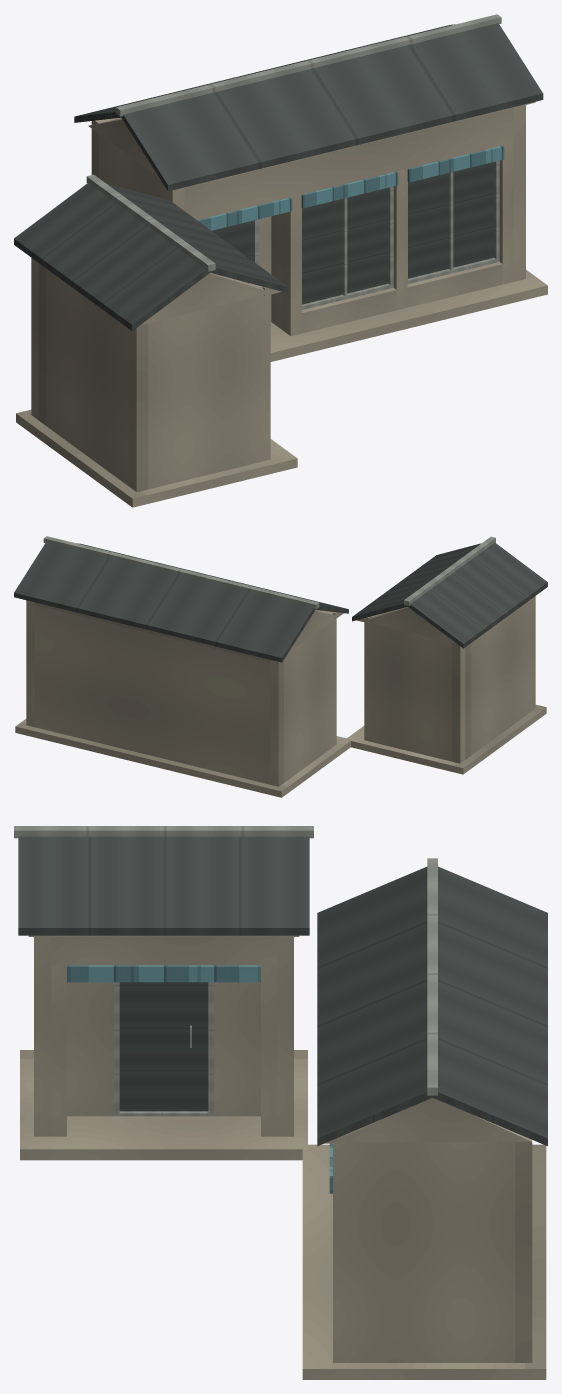
3 views of the same model, one above another, from view 1: azimuth 30°, elevation 25°; view 2: azimuth 150°, elevation 25°; view 3: azimuth 270°, elevation 25° (orthographic). The views are drawn at different scales.
Visible parts, largest first — view 1: mexico-city; view 2: mexico-city; view 3: mexico-city.
Boxes of the visible parts, left/top/right/bottom form: mexico-city: left=14, top=14, right=547, bottom=507; mexico-city: left=14, top=536, right=547, bottom=797; mexico-city: left=14, top=826, right=547, bottom=1379.
Size of the model in its own units: 8.6 by 3.67 by 6.03.
Materials: 1 (1 with a texture image).
